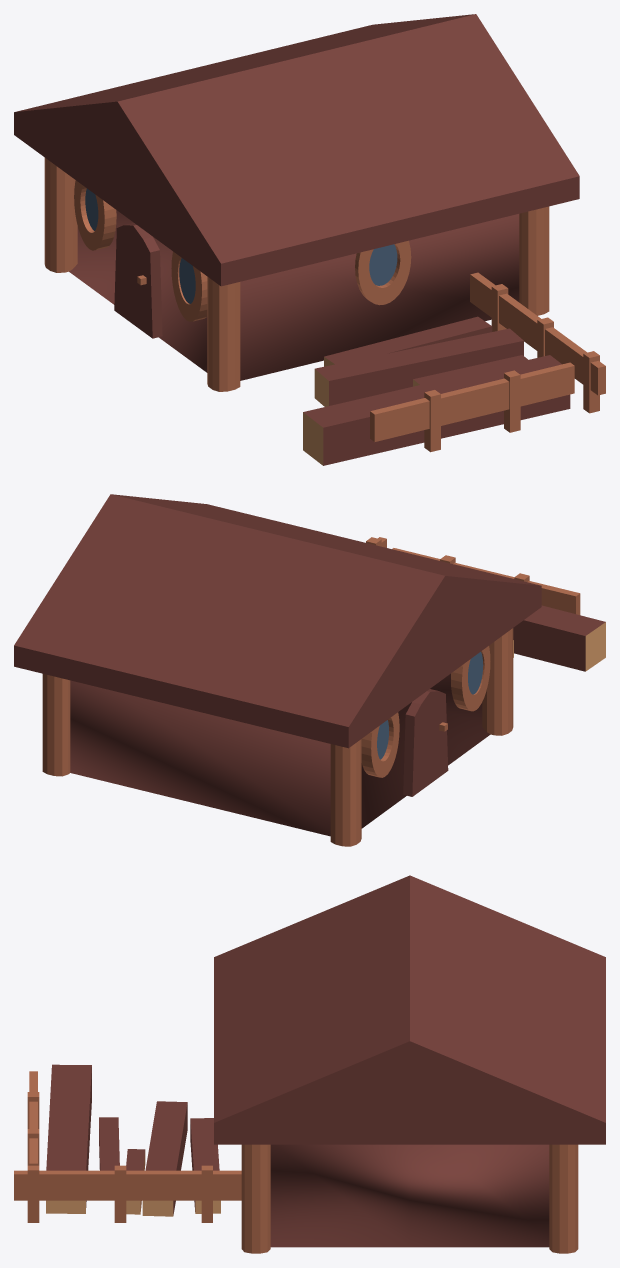
Rendered from woodcuttersHut.fbx.
3 renders of one model, top to bottom at view 1: azimuth 30°, elevation 25°; view 2: azimuth 150°, elevation 25°; view 3: azimuth 270°, elevation 25°, orthographic. The views are drawn at different scales.
Visible parts, largest first — view 1: Cube.011, sciany, Cube.005, Cube.002, poziom.001, Cube, poziom, Cube.009, Cube.006, Cube.008, Cylinder.003, Cube.001 (+6 smaller); view 2: Cube.011, sciany, Cube.005, Cube, Cube.006, Cube.007, Cube.009, Cylinder, Cylinder.001, poziom.001; view 3: Cube.011, sciany, poziom, Cube.005, Cube.008, Cube.007, Cube.002, Cube.001, Cube.004, pion.001, pion.002, pion (+2 smaller).
Part boxes in pixels (box(x1,y1,x2,y2)): Cube.011: box(14, 14, 579, 286); sciany: box(69, 210, 519, 380); Cube.005: box(303, 355, 570, 465); Cube.002: box(314, 328, 523, 406); poziom.001: box(370, 362, 574, 441); Cube: box(114, 223, 162, 338); poziom: box(470, 272, 605, 395); Cube.009: box(207, 276, 240, 391); Cube.006: box(44, 158, 77, 272); Cube.008: box(519, 206, 549, 315); Cylinder.003: box(355, 240, 411, 305); Cube.001: box(324, 316, 492, 366); Cube.011: box(14, 494, 541, 748); sciany: box(70, 673, 490, 836); Cube.005: box(513, 605, 605, 671); Cube: box(403, 689, 448, 796); Cube.006: box(330, 739, 361, 846); Cube.007: box(42, 674, 70, 776); Cube.009: box(482, 628, 513, 735); Cylinder: box(451, 646, 490, 711); Cylinder.001: box(361, 712, 399, 777); poziom.001: box(392, 548, 580, 614); Cube.011: box(214, 875, 605, 1144); sciany: box(270, 1144, 549, 1247); poziom: box(14, 1170, 241, 1200); Cube.005: box(46, 1064, 91, 1213); Cube.008: box(241, 1144, 270, 1253); Cube.007: box(549, 1144, 578, 1253); Cube.002: box(142, 1101, 187, 1216); Cube.001: box(190, 1118, 220, 1213); Cube.004: box(99, 1117, 119, 1170); pion.001: box(114, 1165, 126, 1222); pion.002: box(27, 1165, 39, 1222); pion: box(201, 1165, 212, 1222).
Bounding box in the file's own units: 571 × 350 × 862.
